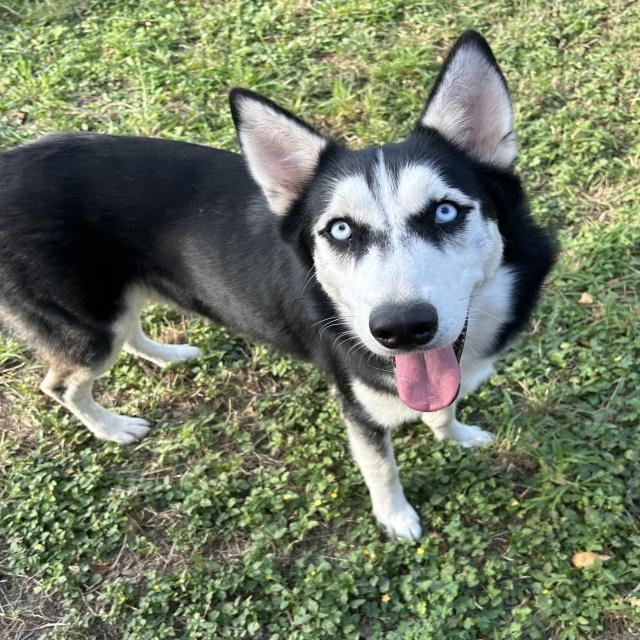siberian_husky_dog: (219, 23, 530, 430)
